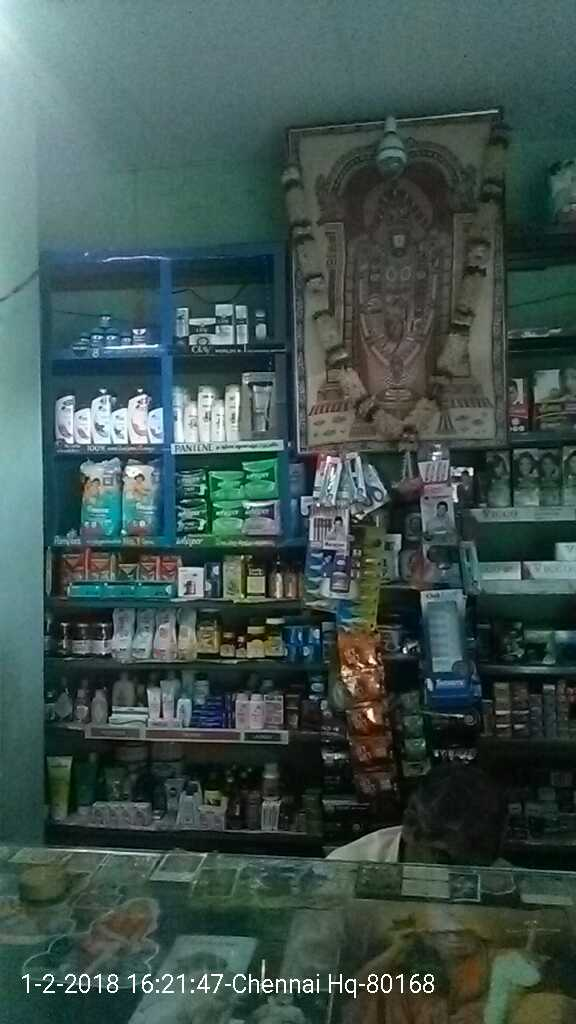vicks: (60, 300, 163, 357)
